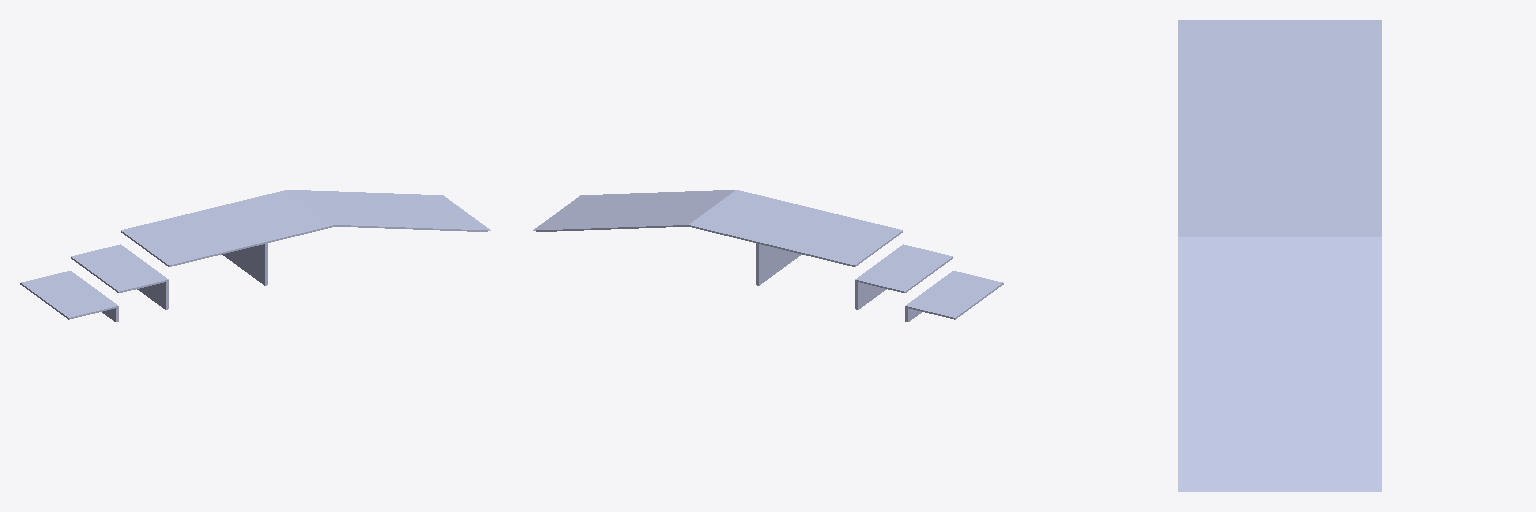
The robot description file, URDF, robot "map15xuongdoc":
<?xml version="1.0" encoding="utf-8"?>
<!-- This URDF was automatically created by SolidWorks to URDF Exporter! Originally created by [author] ([email redacted]) 
     Commit Version: 1.6.0-1-g15f4949  Build Version: 1.6.7594.29634
     For more information, please see http://wiki.ros.org/sw_urdf_exporter -->
<robot
  name="map15xuongdoc">
  <link
    name="base_link">
    <inertial>
      <origin
        xyz="0.0412355866372417 0 -0.0999358329646227"
        rpy="0 0 0" />
      <mass
        value="17.3567361745762" />
      <inertia
        ixx="0.450793947190627"
        ixy="1.0539617029628E-15"
        ixz="0.32955709829048"
        iyy="3.31248517633938"
        iyz="1.33451417514109E-16"
        izz="3.58488856975609" />
    </inertial>
    <visual>
      <origin
        xyz="0 0 0"
        rpy="0 0 0" />
      <geometry>
        <mesh
          filename="package://map15xuongdoc/meshes/base_link.STL" />
      </geometry>
      <material
        name="">
        <color
          rgba="0.792156862745098 0.819607843137255 0.933333333333333 1" />
      </material>
    </visual>
    <collision>
      <origin
        xyz="0 0 0"
        rpy="0 0 0" />
      <geometry>
        <mesh
          filename="package://map15xuongdoc/meshes/base_link.STL" />
      </geometry>
    </collision>
  </link>
</robot>

--- Render facts (derived) ---
Views: 3 orthographic renders of the robot side by side, from view 1: azimuth 30°, elevation 25°; view 2: azimuth 150°, elevation 25°; view 3: azimuth 270°, elevation 25°.
Model map15xuongdoc with 1 links and 0 joints (none), rooted at base_link, posed all joints at 0.
Visible links, largest first — view 1: base_link; view 2: base_link; view 3: base_link.
Boxes of the visible links, box(x1,y1,x2,y2) form: base_link: box(20, 190, 490, 321); base_link: box(533, 190, 1003, 321); base_link: box(1178, 20, 1381, 491).
Bounding box of the posed robot: 2.53 × 0.5 × 0.25 m (x, y, z).
Meshes: 1 distinct files referenced, 1 mesh visuals loaded (1 binary STL).